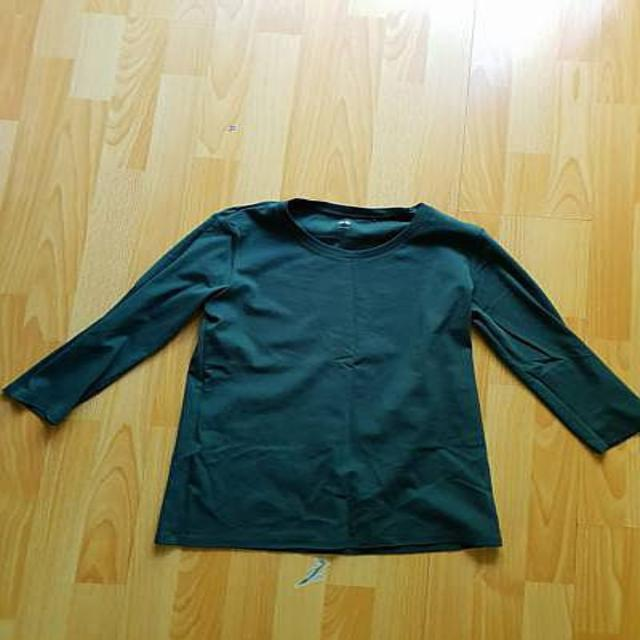SHIRT: (3, 181, 640, 560)
